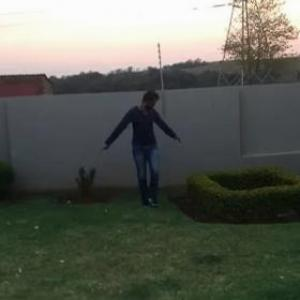land: (95, 88, 193, 223)
